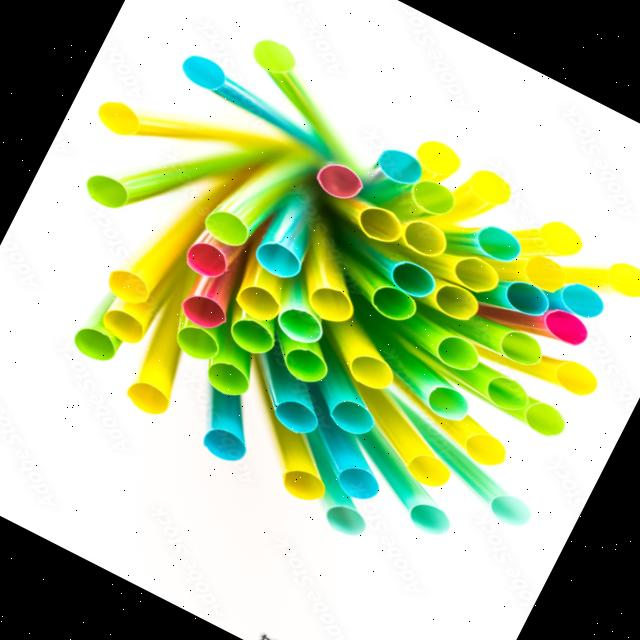plastic: (57, 126, 191, 244)
